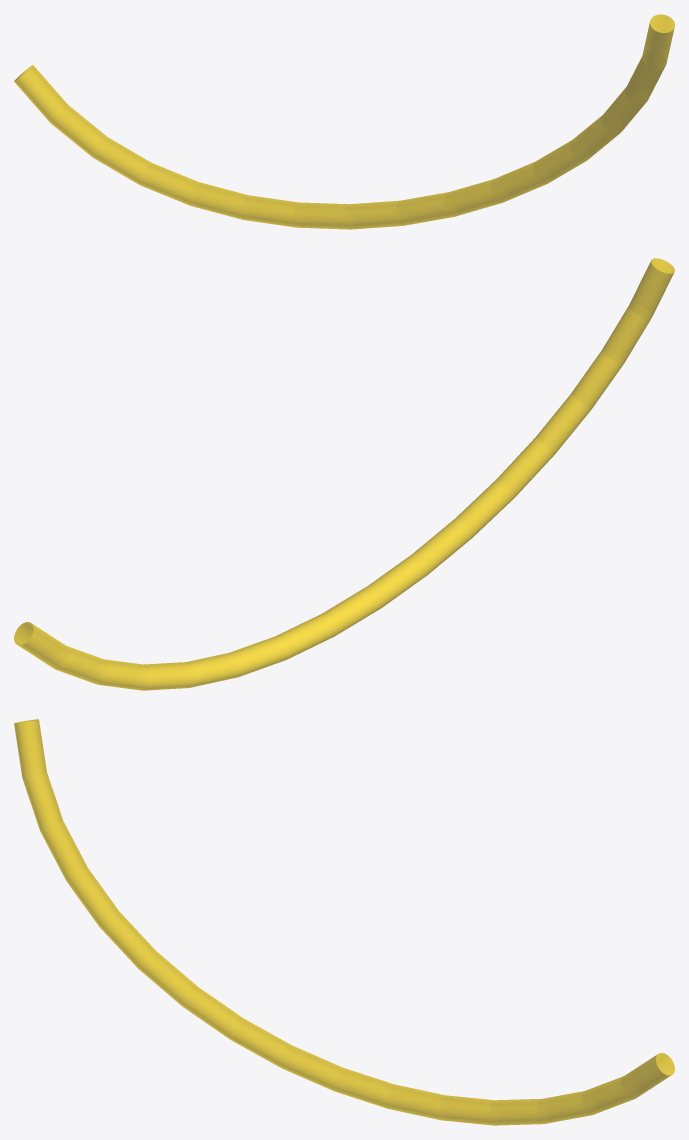
File: Event_419990632_track_65.fbx
3 views of the same model, one above another, from view 1: azimuth 90°, elevation 25°; view 2: azimuth 150°, elevation 25°; view 3: azimuth 270°, elevation 25° (orthographic). The views are drawn at different scales.
Parts seen in each view (by area): view 1: Model; view 2: Model; view 3: Model.
Boxes of the visible parts, x1,y1,x2,y2 form: Model: (14,14,674,229); Model: (14,258,674,690); Model: (14,719,674,1125).
Size of the model in its own units: 0.5842 by 0.5239 by 1.04.
